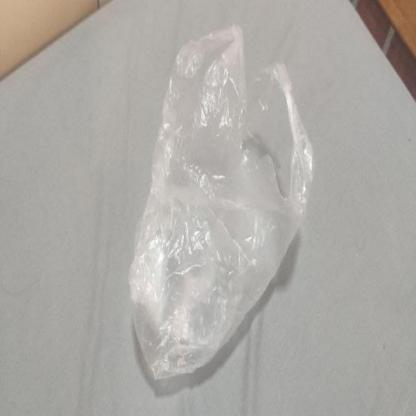Plastic Bag: (126, 23, 314, 381)
